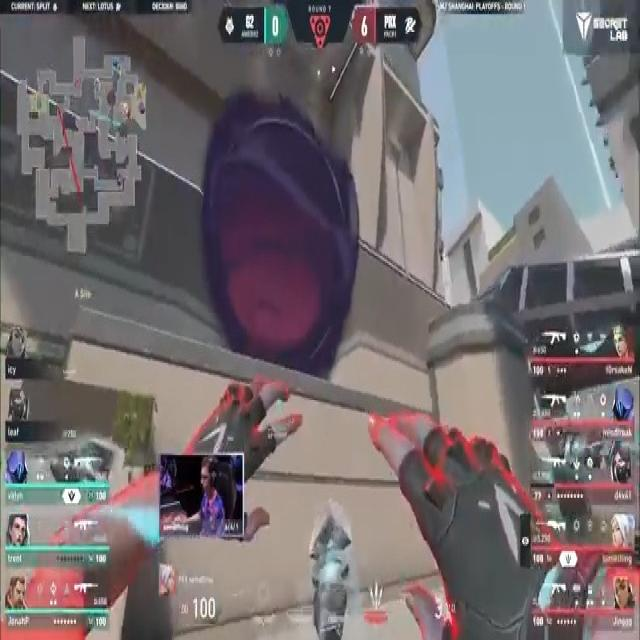smoke: (214, 112, 343, 370)
